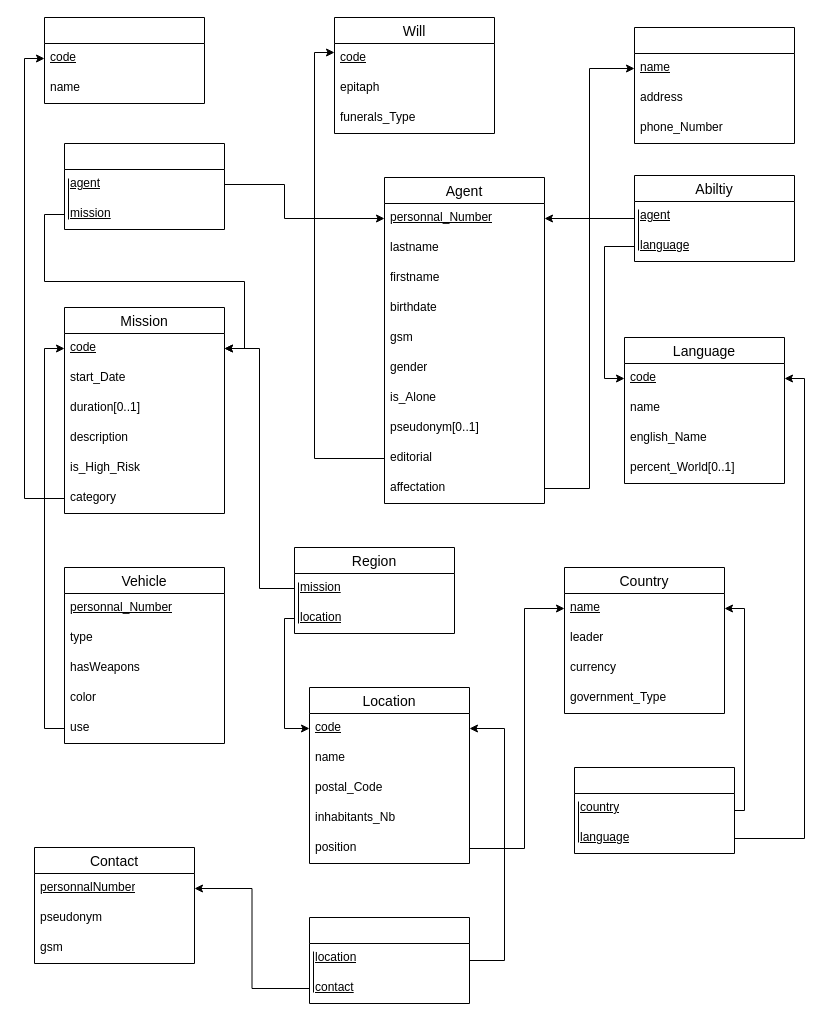
The diagram is 830 pixels wide and 1024 high, and some of its shapes have lost their labels. Here are the shapes that lost their labels. From the top down, the box of each, then its label:
(44, 16, 204, 104): Mission type
(634, 26, 794, 144): Cell
(64, 142, 224, 230): Attribution
(574, 766, 734, 854): Offcial_Language
(308, 916, 470, 1004): Coverage
